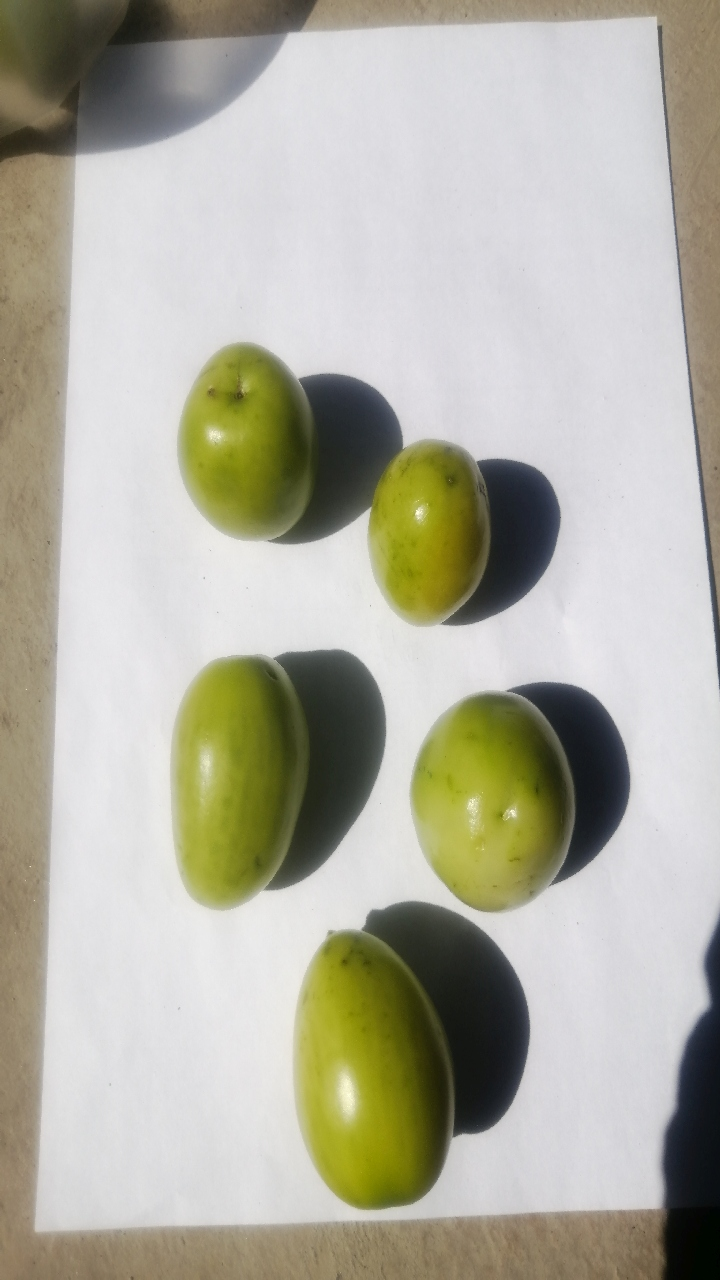tomateVerde: (255, 908, 481, 1226), (397, 662, 584, 939), (146, 628, 306, 928), (158, 320, 334, 592), (349, 394, 512, 645)
